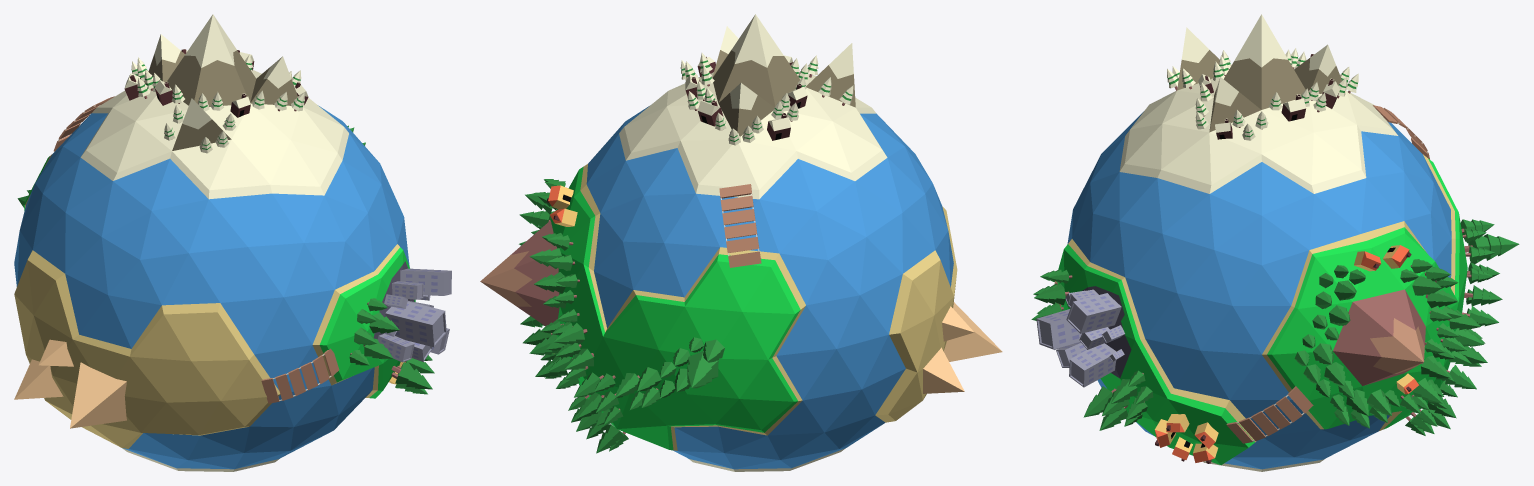
The picture shows the model from 3 angles, left to right: view 1: azimuth 30°, elevation 25°; view 2: azimuth 150°, elevation 25°; view 3: azimuth 270°, elevation 25°; orthographic projection.
Visible parts, largest first — view 1: Planet, Cone.003, Building, Cube.002, Cone.001, Building.004, Cone.002, Building.007, Cylinder.007, Building.005, Cube; view 2: Planet, Cube, Cone.003, Cone.001, Cone.236, Cone.002; view 3: Planet, Cube.001, Building.004, Building.001, Building, Cone.236.
Part boxes in pixels (<box>): Planet: <box>14,14,415,471</box>; Cone.003: <box>70,362,126,428</box>; Building: <box>385,301,446,347</box>; Cube.002: <box>261,348,339,403</box>; Cone.001: <box>14,359,63,399</box>; Building.004: <box>400,268,451,295</box>; Cone.002: <box>39,339,73,366</box>; Building.007: <box>377,333,414,362</box>; Cylinder.007: <box>391,361,432,389</box>; Building.005: <box>392,281,423,299</box>; Cube: <box>53,96,114,151</box>; Planet: <box>480,14,957,471</box>; Cube: <box>719,184,761,267</box>; Cone.003: <box>943,302,1002,361</box>; Cone.001: <box>923,347,964,393</box>; Cone.236: <box>687,351,718,388</box>; Cone.002: <box>942,306,974,341</box>; Planet: <box>1057,14,1467,471</box>; Cube.001: <box>1226,386,1313,443</box>; Building.004: <box>1066,293,1121,333</box>; Building.001: <box>1069,343,1116,387</box>; Building: <box>1036,309,1081,349</box>; Cone.236: <box>1464,234,1519,263</box>.
Size of the model in its own units: 235 by 245 by 246.
